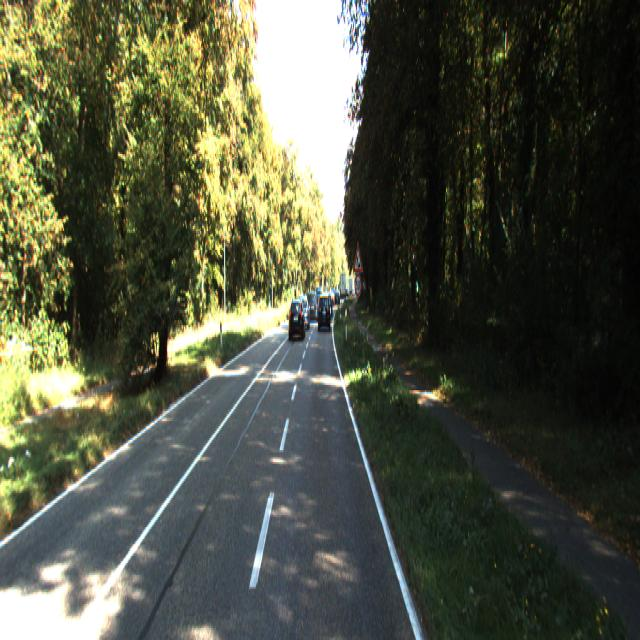Car: (288, 294, 305, 338), (318, 291, 330, 328)
DontCare: (330, 290, 340, 304)
